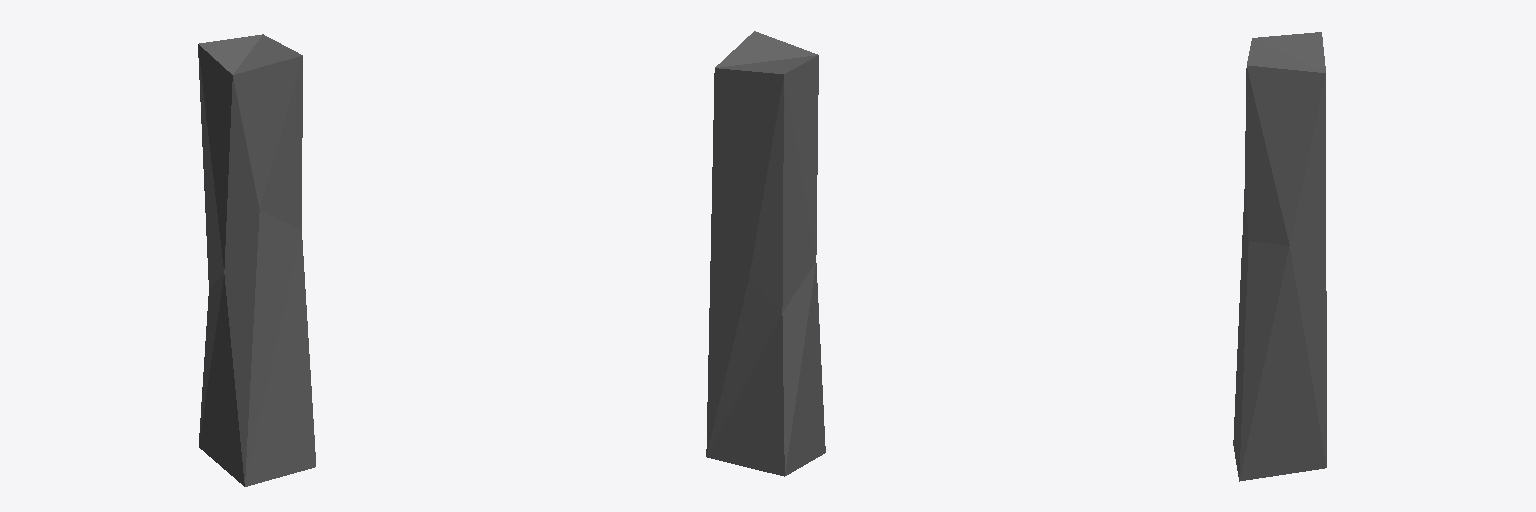
File: stone1.obj
3 views of the same model, side by side, from view 1: azimuth 30°, elevation 25°; view 2: azimuth 150°, elevation 25°; view 3: azimuth 270°, elevation 25° (orthographic).
Parts seen in each view (by area): view 1: stone3_Mesh.023; view 2: stone3_Mesh.023; view 3: stone3_Mesh.023.
Boxes of the visible parts, <box> form: stone3_Mesh.023: <box>198,34,315,486</box>; stone3_Mesh.023: <box>706,31,825,476</box>; stone3_Mesh.023: <box>1233,32,1326,481</box>.
Bounding box in the file's own units: 7.58 × 37.24 × 7.66.